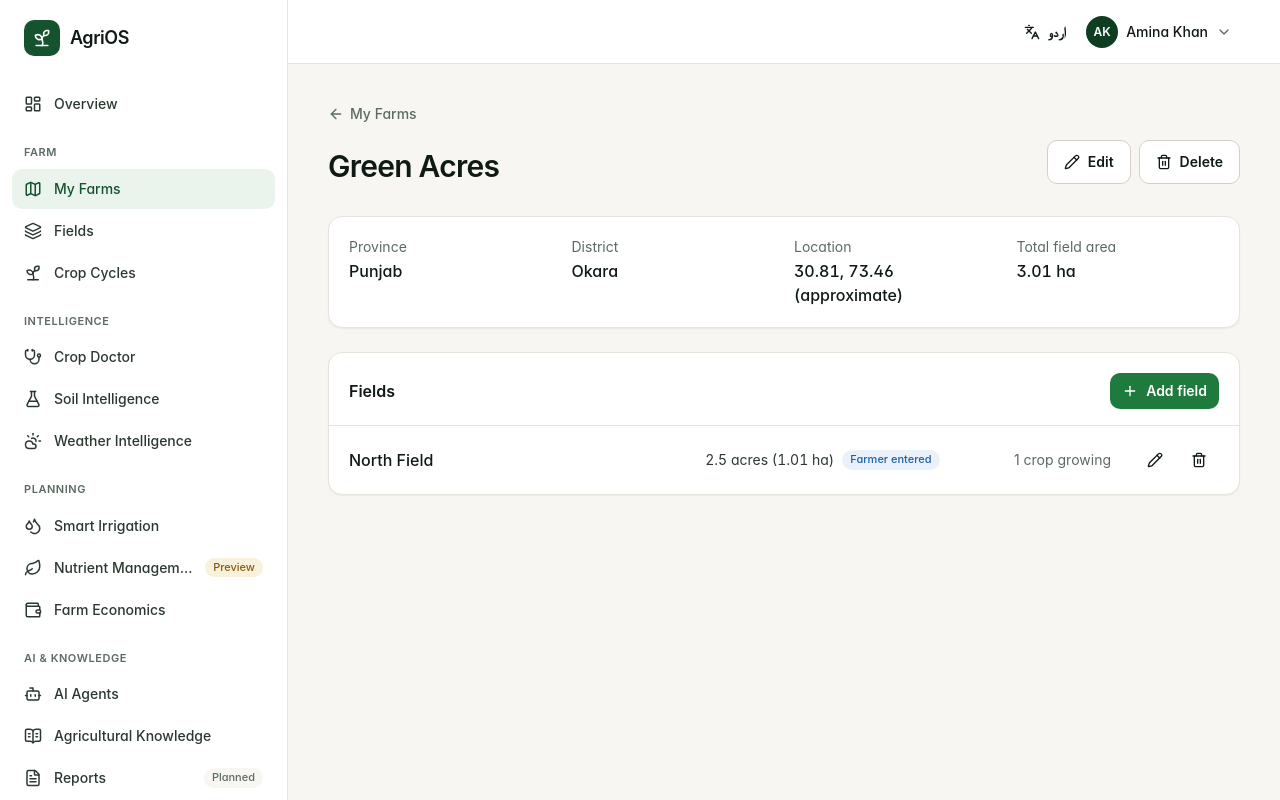
Test: My Farms › explains why a farm with fields cannot be deleted
This screenshot has width=1280, height=800.
What coordinates should you click on to do the following:
click the button with aria-label "Delete farm"
I would click on:
 (1189, 162)
Its box is top-left (1139, 140), bottom-right (1240, 184).
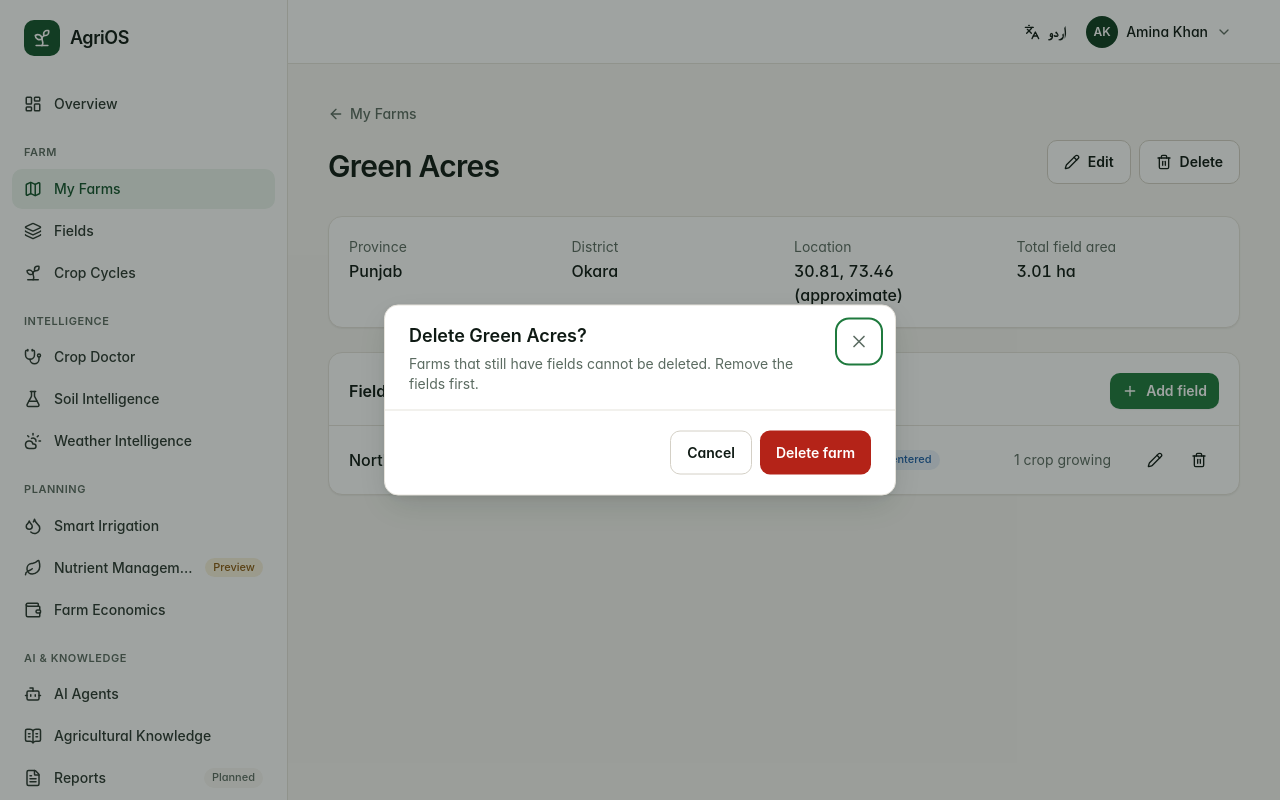
What coordinates should you click on to do the following:
click the button "Delete farm"
I would click on:
 (815, 452)
Its box is top-left (760, 430), bottom-right (871, 474).
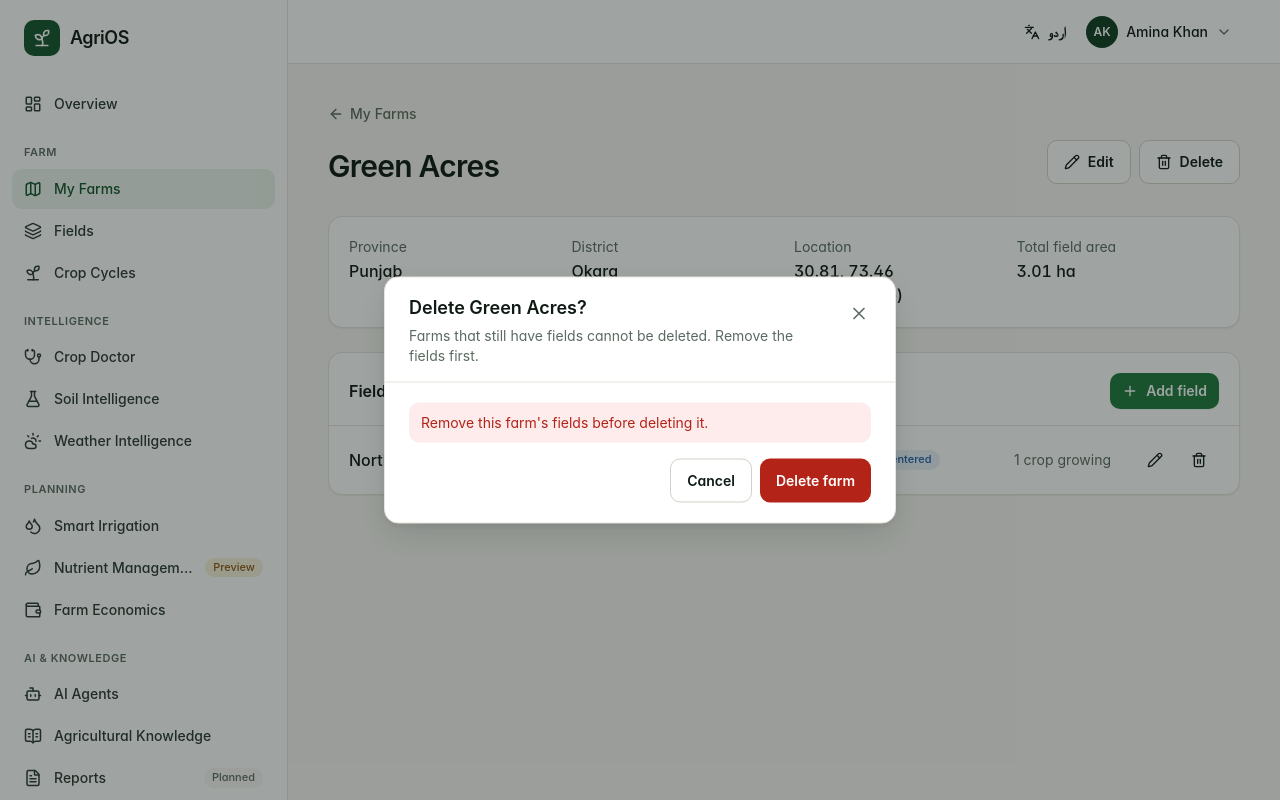
Result: the message reads "Remove this farm's fields before deleting it." at top-left (421, 414), bottom-right (708, 430)
